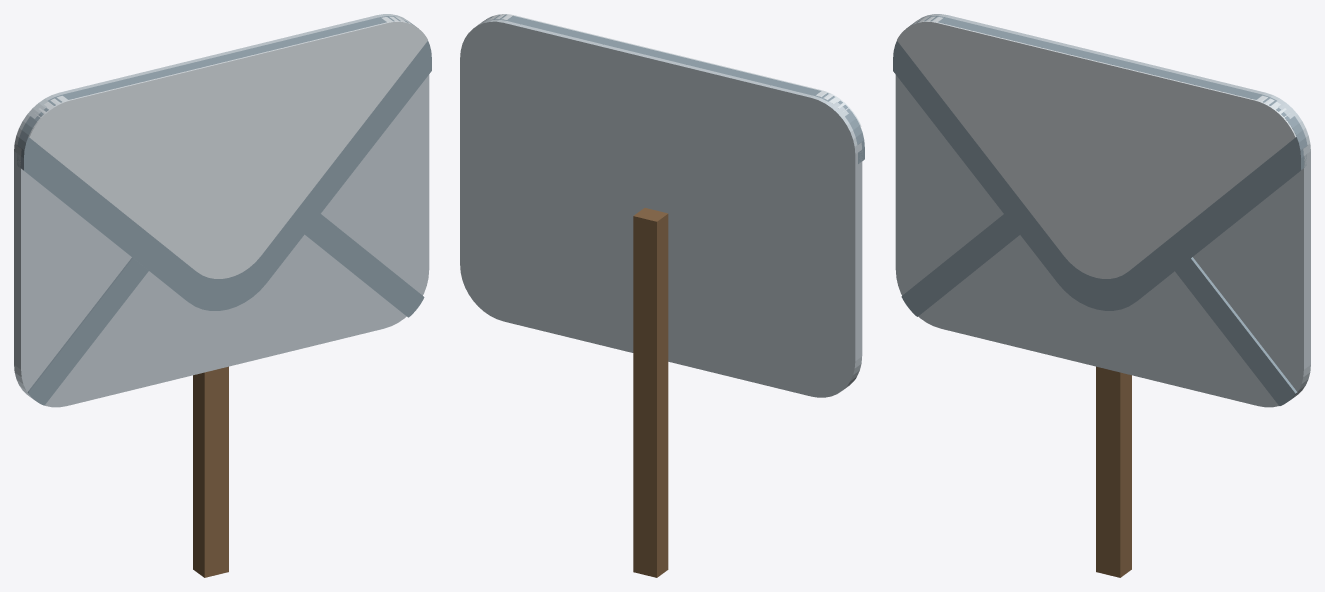
The model's file is lettre.glb.
3 renders of one model, left to right at view 1: azimuth 30°, elevation 25°; view 2: azimuth 150°, elevation 25°; view 3: azimuth 330°, elevation 25°, orthographic. The views are drawn at different scales.
Size of the model in its own units: 1 by 1.22 by 0.101.
